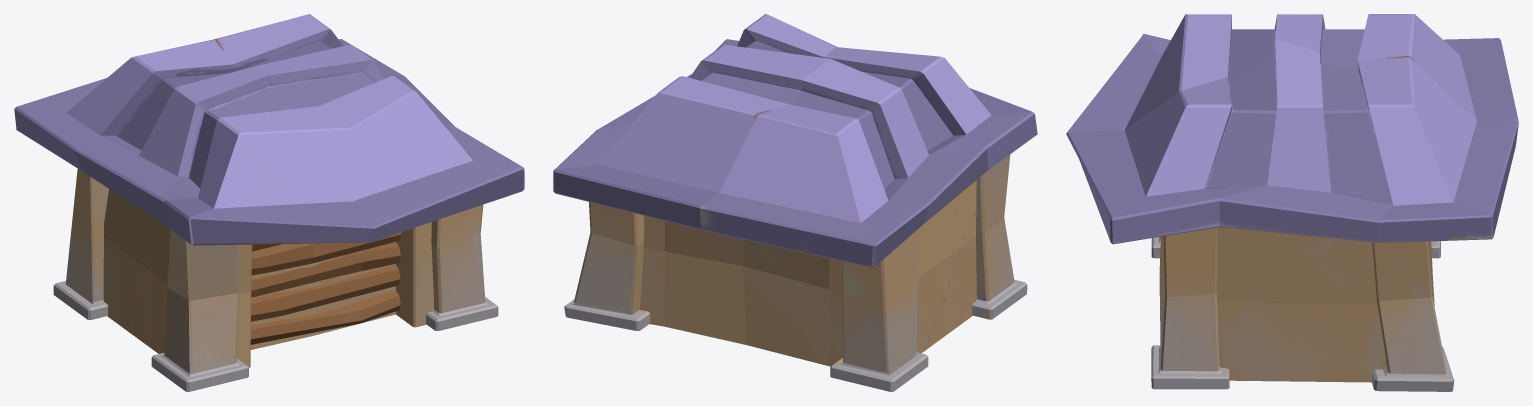
The model's file is house 3.fbx.
3 renders of one model, left to right at view 1: azimuth 30°, elevation 25°; view 2: azimuth 150°, elevation 25°; view 3: azimuth 270°, elevation 25°, orthographic. The views are drawn at different scales.
Visible parts, largest first — view 1: Cube.001; view 2: Cube.001; view 3: Cube.001.
Boxes of the visible parts, x1,y1,x2,y2 form: Cube.001: (14, 14, 524, 391); Cube.001: (553, 14, 1037, 391); Cube.001: (1066, 14, 1518, 391).
Size of the model in its own units: 212 by 147 by 231.
